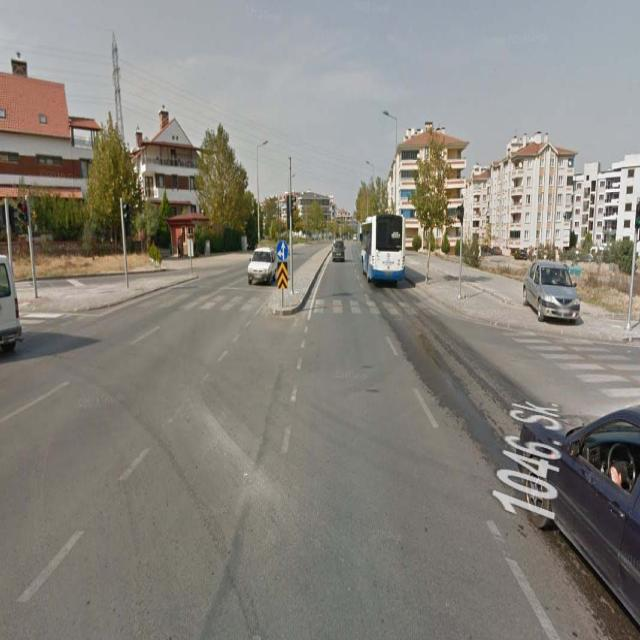ilerisol: (277, 241, 288, 261)
